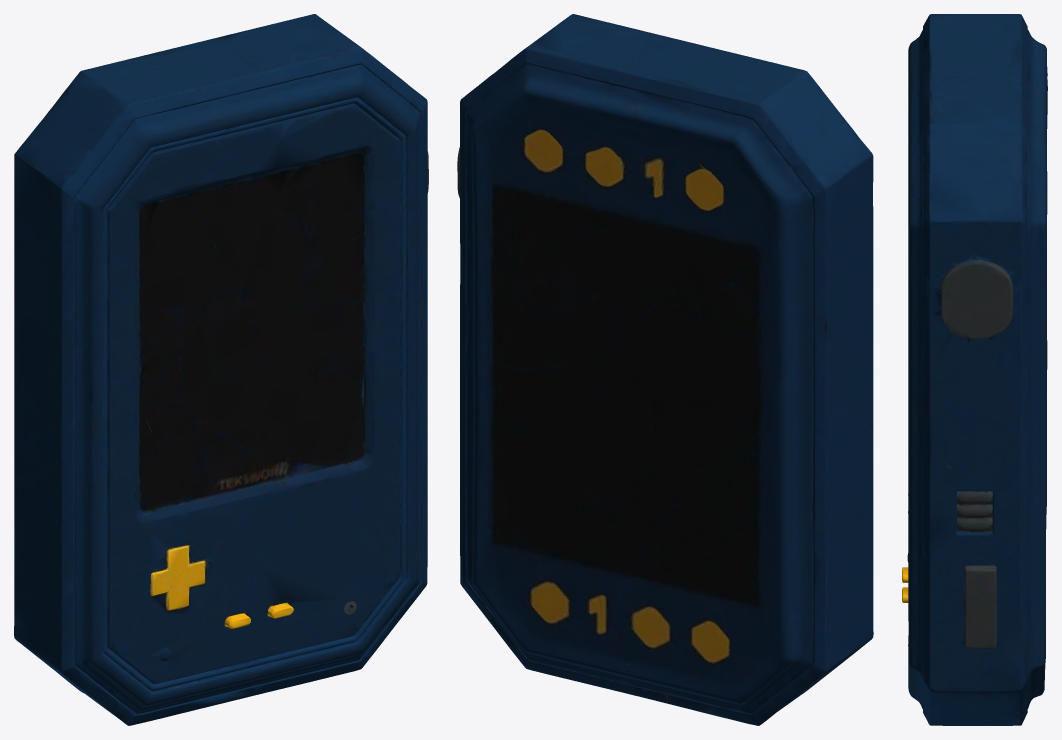
Rendered from tekkwork-terminal.glb.
The picture shows the model from 3 angles, left to right: view 1: azimuth 30°, elevation 25°; view 2: azimuth 150°, elevation 25°; view 3: azimuth 270°, elevation 25°; orthographic projection. The views are drawn at different scales.
Bounding box in the file's own units: 1.2 × 1.9 × 0.4148.
Materials: 1 (1 with a texture image).
